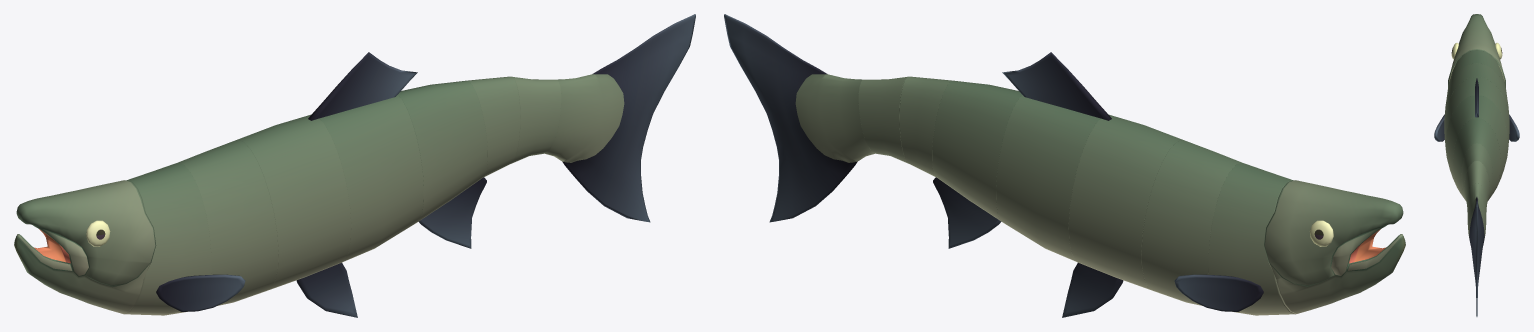
File: fisu_pala.fbx
3 views of the same model, side by side, from view 1: azimuth 30°, elevation 25°; view 2: azimuth 150°, elevation 25°; view 3: azimuth 270°, elevation 25° (orthographic). The views are drawn at different scales.
Visible parts, largest first — view 1: body_8, head, body_3, body_4, body_2, body_5, body_1, body_6, fin_1, body_7, fin_4, fin_2 (+2 smaller); view 2: body_8, head, body_3, body_4, body_2, body_5, body_1, body_6, fin_1, body_7, fin_4, fin_2 (+2 smaller); view 3: body_4, body_5, body_8, body_3, head, body_2, body_1, body_6, body_7, fin_4, eyes, fin_1.
Part boxes in pixels (bbox=[...]): body_8: bbox=[545, 14, 695, 222]; head: bbox=[14, 180, 156, 314]; body_3: bbox=[237, 114, 351, 290]; body_4: bbox=[319, 95, 423, 262]; body_2: bbox=[178, 139, 278, 305]; body_5: bbox=[398, 80, 487, 222]; body_1: bbox=[124, 162, 211, 315]; body_6: bbox=[467, 76, 520, 177]; fin_1: bbox=[308, 52, 417, 120]; body_7: bbox=[511, 77, 561, 163]; fin_4: bbox=[156, 274, 245, 311]; fin_2: bbox=[418, 177, 486, 248]; body_8: bbox=[724, 14, 874, 222]; head: bbox=[1263, 180, 1405, 314]; body_3: bbox=[1068, 114, 1182, 290]; body_4: bbox=[996, 95, 1100, 262]; body_2: bbox=[1141, 139, 1241, 305]; body_5: bbox=[932, 80, 1021, 222]; body_1: bbox=[1208, 162, 1295, 315]; body_6: bbox=[899, 76, 952, 177]; fin_1: bbox=[1002, 52, 1111, 120]; body_7: bbox=[858, 77, 908, 163]; fin_4: bbox=[1174, 274, 1263, 311]; fin_2: bbox=[933, 177, 1001, 248]; body_4: bbox=[1445, 95, 1508, 191]; body_5: bbox=[1453, 117, 1500, 200]; body_8: bbox=[1467, 183, 1486, 316]; body_3: bbox=[1444, 76, 1509, 155]; head: bbox=[1448, 14, 1505, 87]; body_2: bbox=[1444, 63, 1509, 123]; body_1: bbox=[1446, 50, 1507, 97]; body_6: bbox=[1461, 143, 1492, 199]; body_7: bbox=[1464, 160, 1489, 206]; fin_4: bbox=[1434, 114, 1519, 141]; eyes: bbox=[1451, 43, 1502, 59]; fin_1: bbox=[1475, 78, 1478, 117].
Size of the model in its own units: 375 by 138 by 63.85.
Materials: 1 (1 with a texture image).
